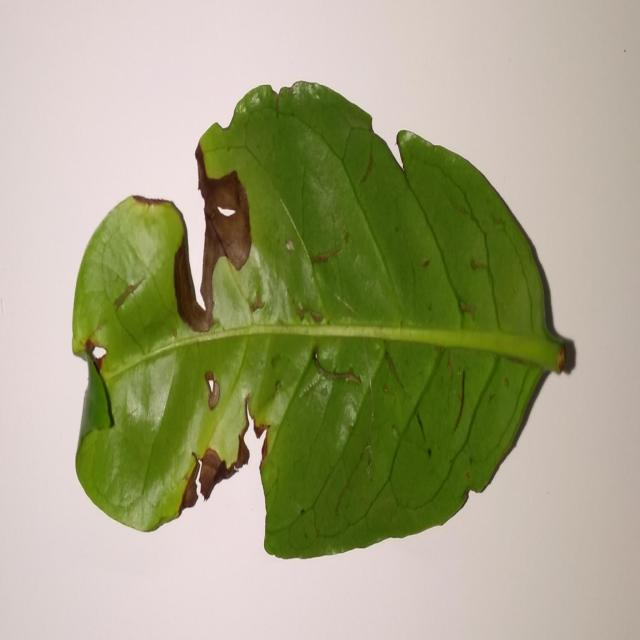Enfermedad-Antracnosis: (70, 81, 577, 562)
